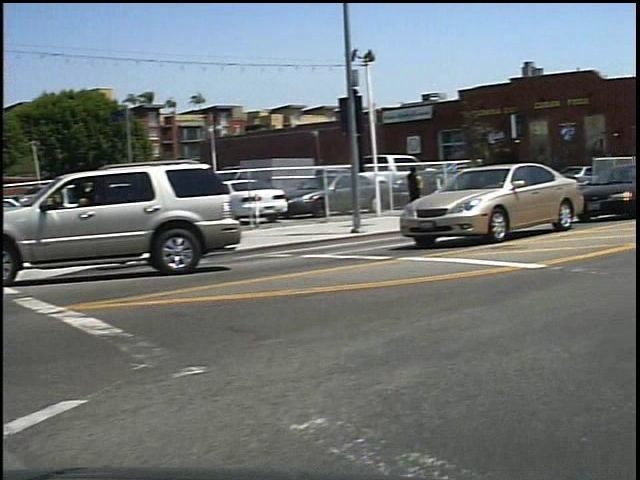person: (410, 167, 436, 226)
